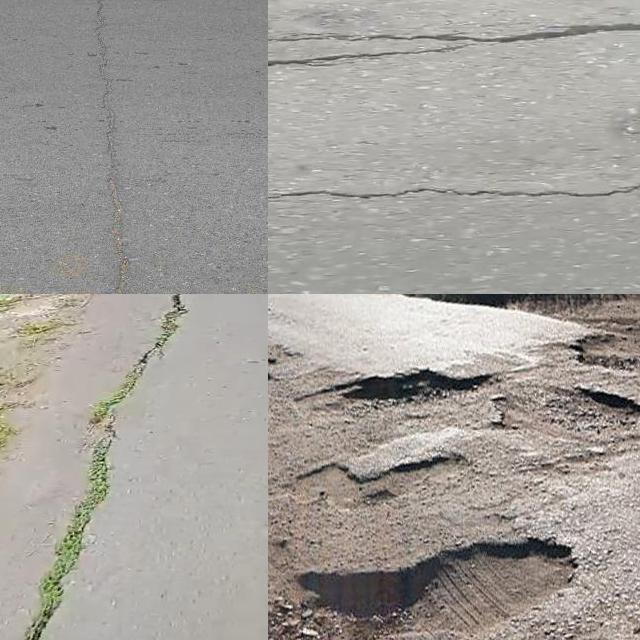Lubang: (268, 541, 583, 640), (337, 371, 477, 423)
Melintang: (268, 14, 640, 78), (268, 163, 640, 213)
Memanjang: (11, 294, 203, 640), (77, 0, 156, 294)
